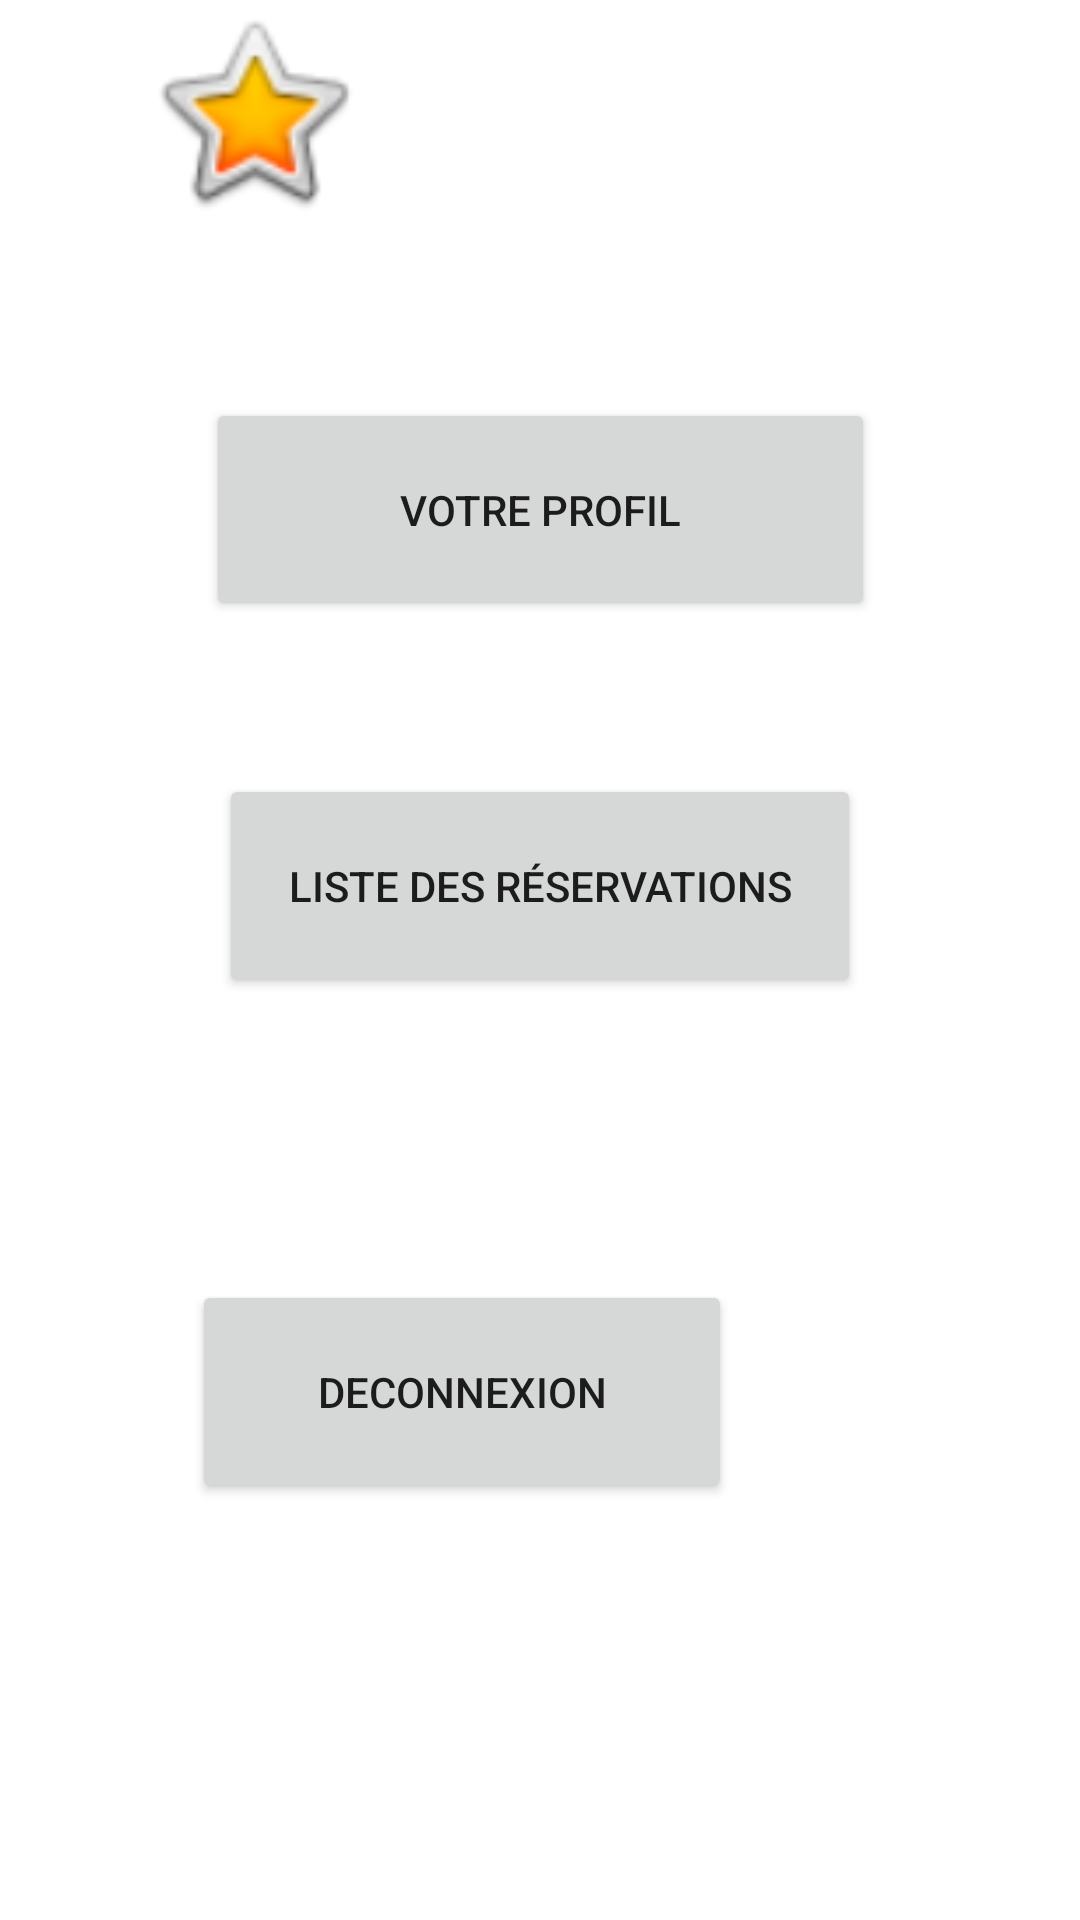

Locate icon controls on the screen. Image size 1080*1920, boxes as {"left": x1, "top": y1, "right": x2, "bottom": y2}.
star on: {"left": 162, "top": 23, "right": 349, "bottom": 205}
